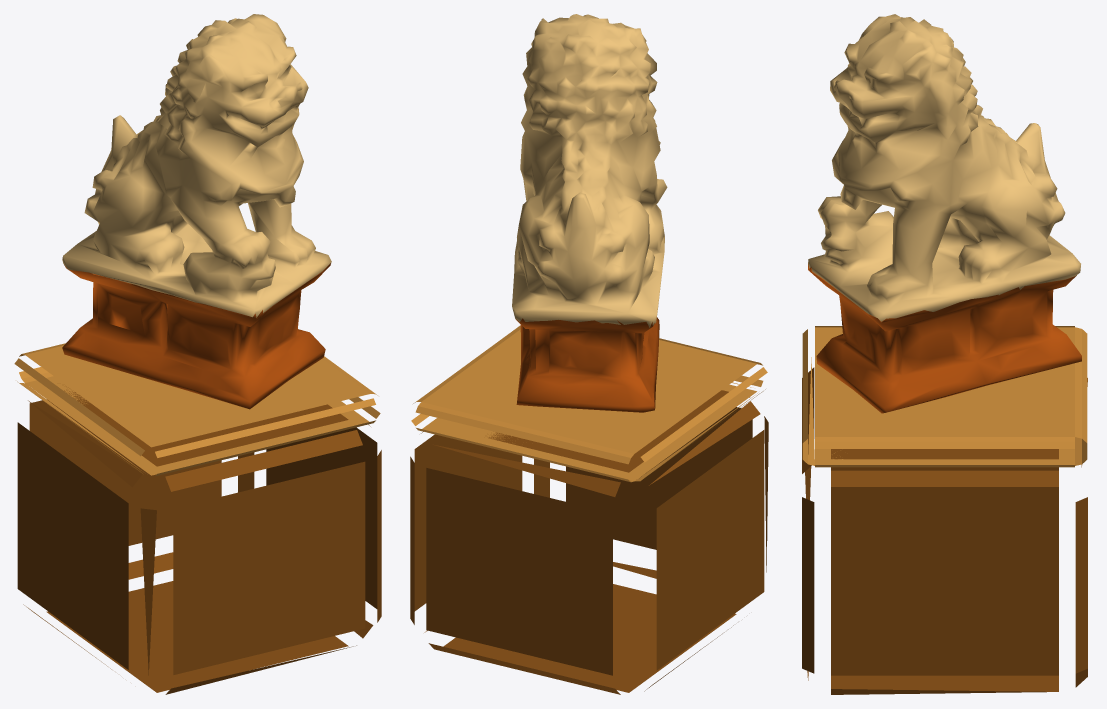
The model's file is yuxi.fbx.
3 views of the same model, side by side, from view 1: azimuth 30°, elevation 25°; view 2: azimuth 150°, elevation 25°; view 3: azimuth 270°, elevation 25° (orthographic). The views are drawn at different scales.
Visible parts, largest first — view 1: yuxi; view 2: yuxi; view 3: yuxi.
Boxes of the visible parts, x1,y1,x2,y2 form: yuxi: [14, 14, 381, 694]; yuxi: [410, 14, 768, 694]; yuxi: [802, 14, 1087, 694].
Size of the model in its own units: 41.5 by 97.86 by 41.5.
1 material, 1 textured.
